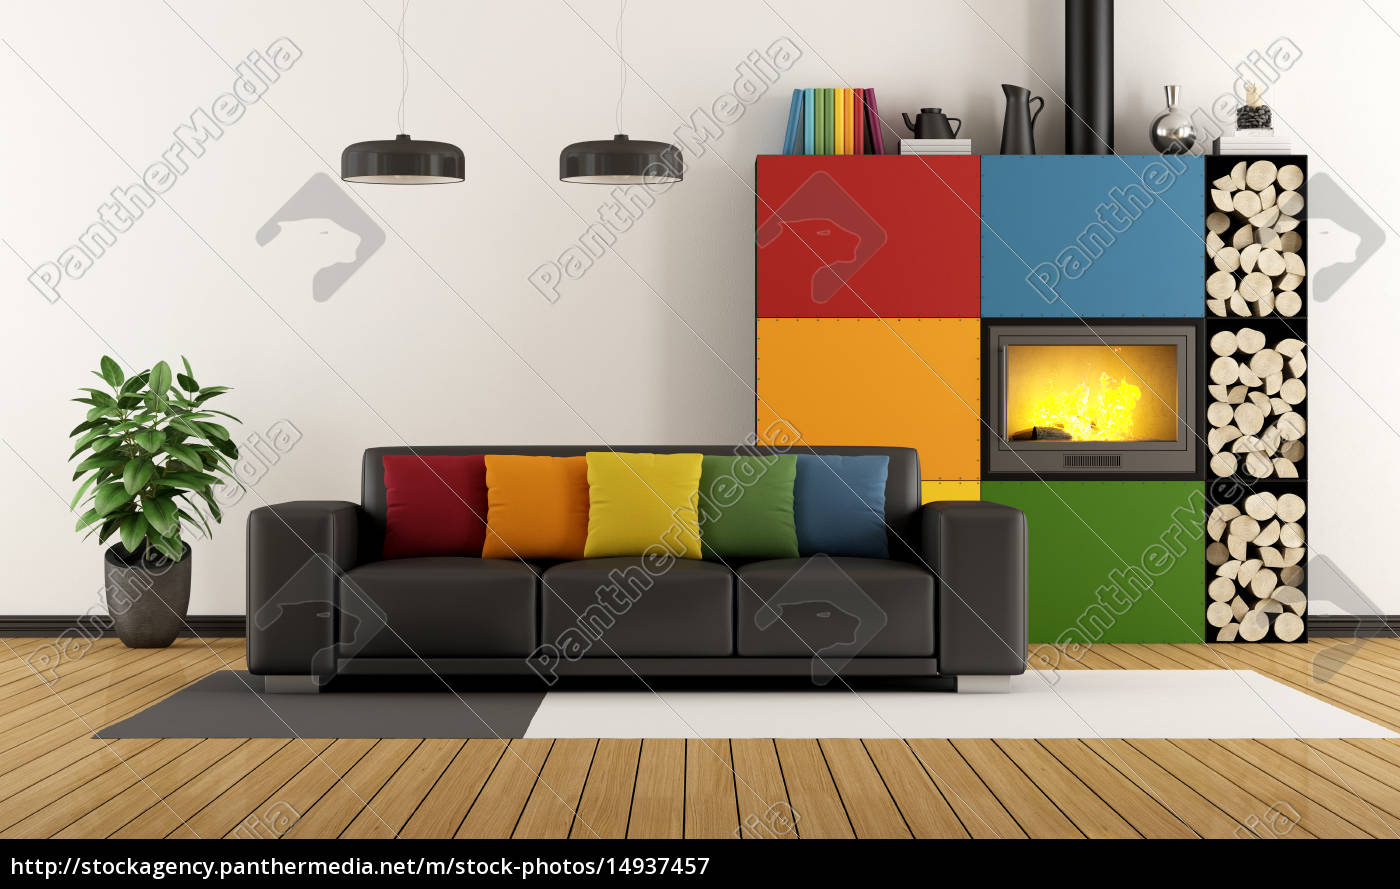biru: (784, 448, 894, 554)
hijau: (684, 452, 794, 558)
hitam: (249, 441, 1032, 677), (105, 541, 188, 650), (996, 84, 1043, 156), (900, 108, 959, 138)
kuning: (588, 449, 698, 555)
merah: (381, 450, 491, 556)
orange: (488, 452, 598, 558)
